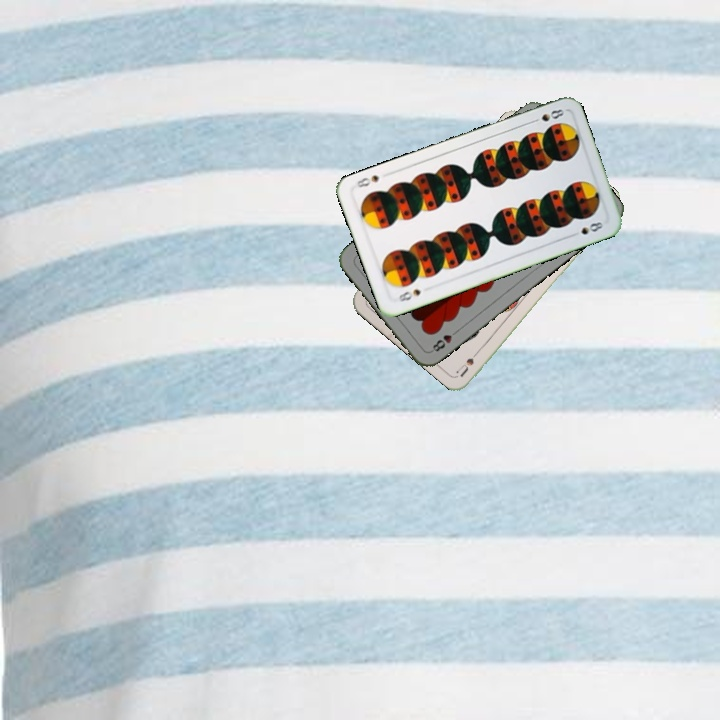H8: (427, 325, 461, 355)
S8: (527, 105, 567, 126), (395, 285, 423, 304)
SU: (452, 343, 485, 379)
